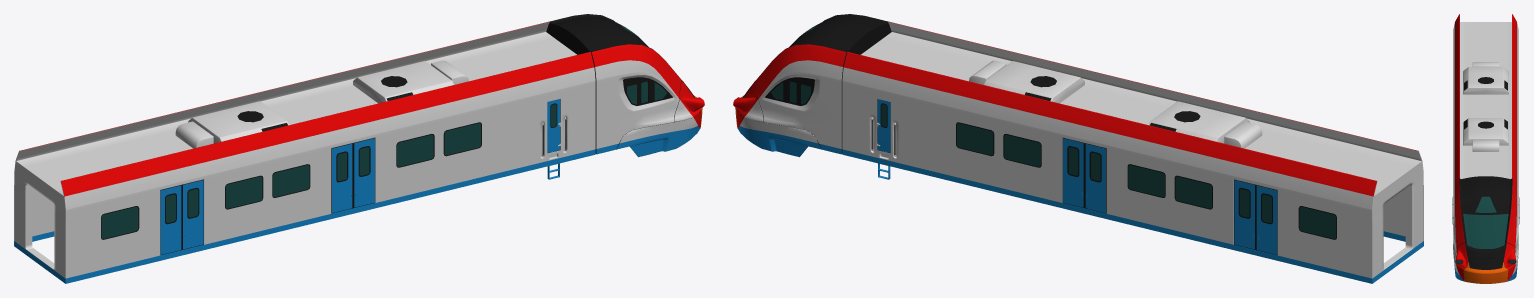
File: Ivolga.fbx
3 renders of one model, left to right at view 1: azimuth 30°, elevation 25°; view 2: azimuth 150°, elevation 25°; view 3: azimuth 270°, elevation 25°, orthographic. The views are drawn at different scales.
Visible parts, largest first — view 1: Ivolga_train; view 2: Ivolga_train; view 3: Ivolga_train.
Boxes of the visible parts, x1=… form: Ivolga_train: x1=14, y1=14, x2=704, y2=283; Ivolga_train: x1=733, y1=14, x2=1423, y2=283; Ivolga_train: x1=1452, y1=14, x2=1519, y2=283.
Size of the model in its own units: 2347 by 406 by 331.
